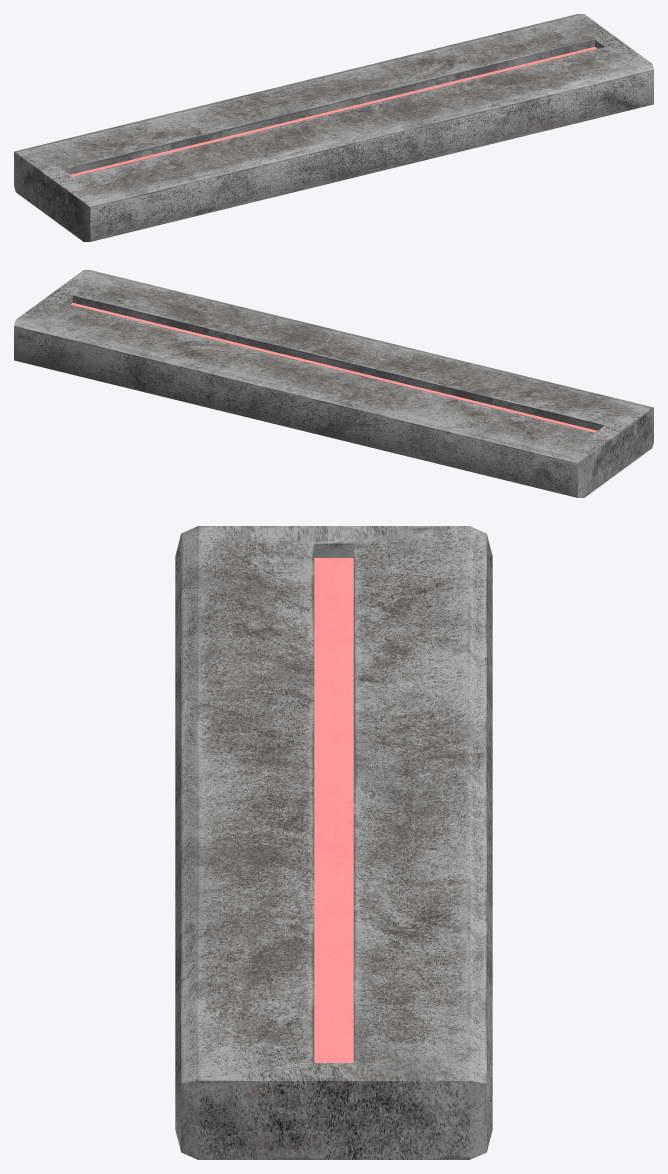
Rendered from rectangularFireSurface.fbx.
3 views of the same model, one above another, from view 1: azimuth 30°, elevation 25°; view 2: azimuth 150°, elevation 25°; view 3: azimuth 270°, elevation 25° (orthographic). The views are drawn at different scales.
Visible parts, largest first — view 1: Box001; view 2: Box001; view 3: Box001.
Boxes of the visible parts, x1,y1,x2,y2 form: Box001: [14, 14, 653, 241]; Box001: [14, 270, 653, 497]; Box001: [175, 526, 492, 1159].
Bounding box in the file's own units: 560 × 37.22 × 135.
